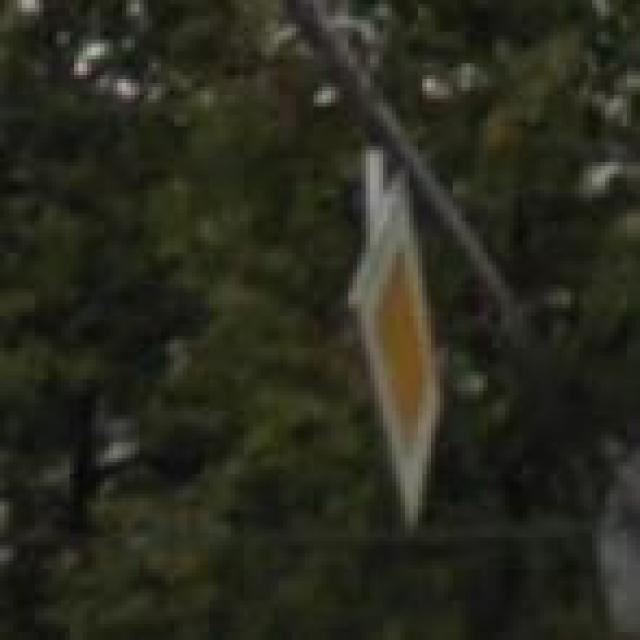Droga z pierwszenstwem: (352, 166, 452, 525)
